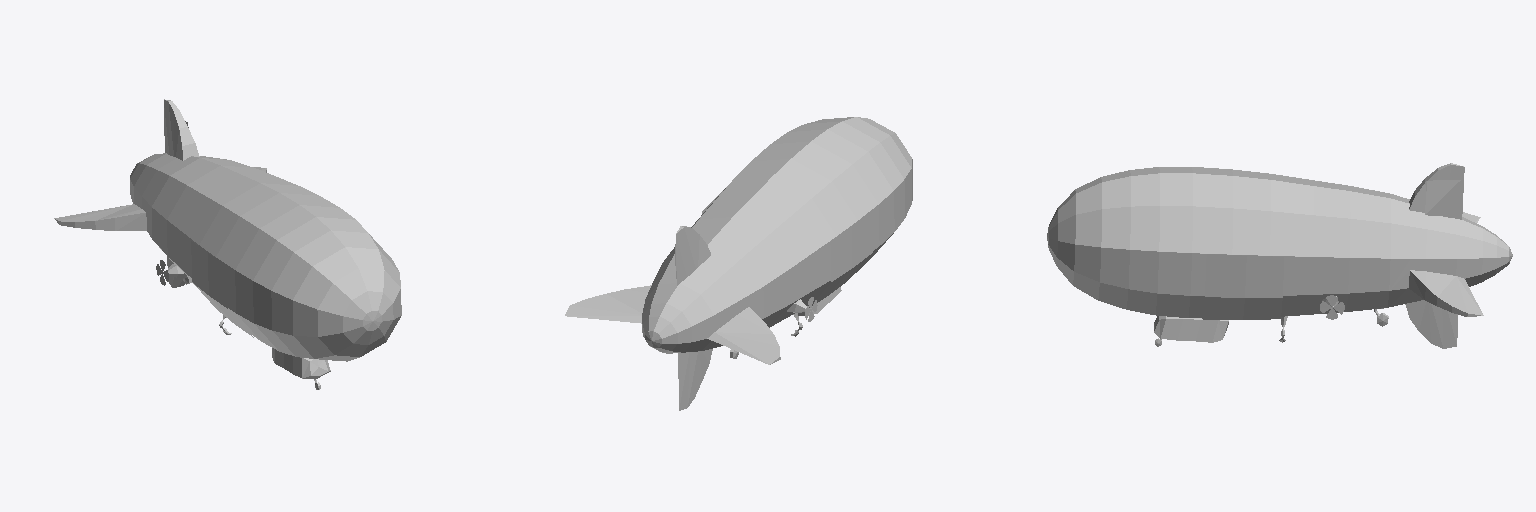
File: Airship Crash.obj
3 views of the same model, side by side, from view 1: azimuth 30°, elevation 25°; view 2: azimuth 150°, elevation 25°; view 3: azimuth 270°, elevation 25° (orthographic).
Parts seen in each view (by area): view 1: Airship; view 2: Airship; view 3: Airship.
Boxes of the visible parts, box(x1,y1,x2,y2) form: Airship: box(54, 99, 401, 389); Airship: box(565, 117, 912, 410); Airship: box(1047, 163, 1512, 348).
Bounding box in the file's own units: 62.41 × 52.52 × 120.